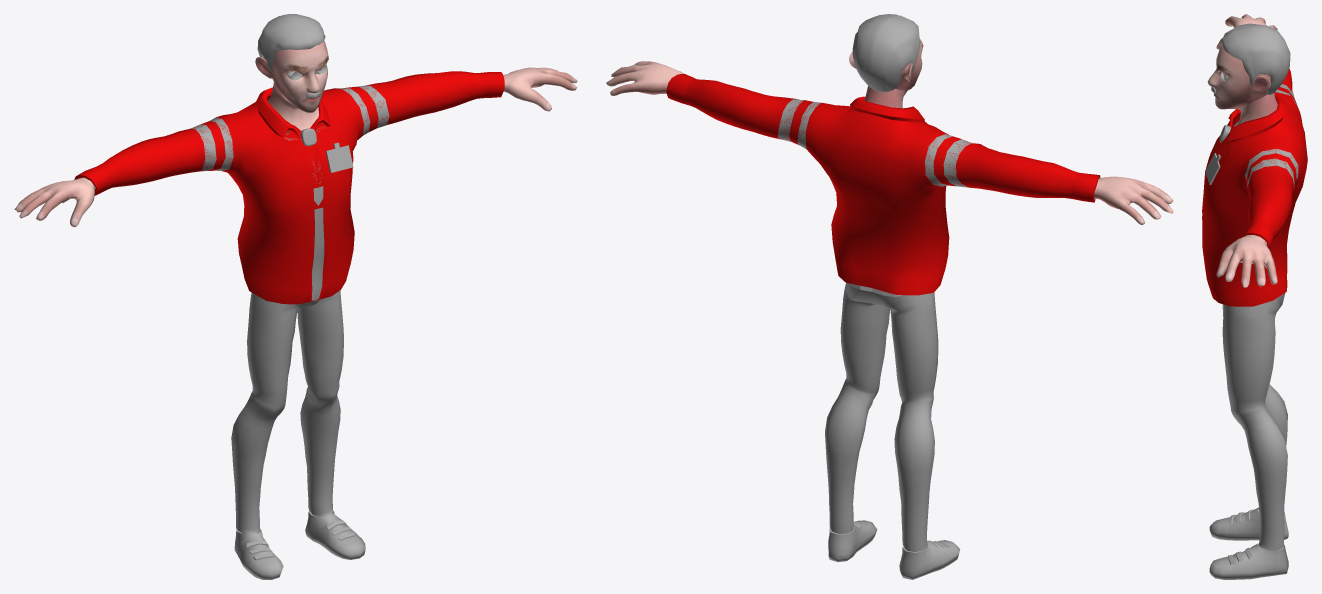
The model's file is man.fbx.
3 renders of one model, left to right at view 1: azimuth 30°, elevation 25°; view 2: azimuth 150°, elevation 25°; view 3: azimuth 270°, elevation 25°, orthographic. The views are drawn at different scales.
Visible parts, largest first — view 1: Man_hammer:Man_hammer_9, Man_hammer:Man_hammer_4, Man_1__1858_Man_1_10, Man_hammer:Man_hammer_0, office_Man_1:office_Man_1_8, Man_hammer:Man_hammer_5, Man_hammer:Man_hammer_1, Man_hammer:Man_hammer_6, office_Man_1:office_Man_1_4, Man_hammer:Man_hammer_2, Man_1__1858_Man_1_12; view 2: Man_hammer:Man_hammer_9, Man_hammer:Man_hammer_4, Man_1__1858_Man_1_10, Man_hammer:Man_hammer_0, Man_hammer:Man_hammer_2, Man_hammer:Man_hammer_5, office_Man_1:office_Man_1_8, office_Man_1:office_Man_1_4, Man_hammer:Man_hammer_6; view 3: Man_hammer:Man_hammer_9, Man_hammer:Man_hammer_4, Man_1__1858_Man_1_10, Man_hammer:Man_hammer_5, Man_hammer:Man_hammer_0, Man_hammer:Man_hammer_2, Man_hammer:Man_hammer_6, Man_hammer:Man_hammer_1, office_Man_1:office_Man_1_8, office_Man_1:office_Man_1_4, Man_hammer:Man_hammer_8, office_Man_1:office_Man_1_1 (+5 smaller).
Boxes of the visible parts, left/top/right/bottom form: Man_hammer:Man_hammer_9: left=74, top=71, right=504, bottom=301; Man_hammer:Man_hammer_4: left=238, top=290, right=343, bottom=533; Man_1__1858_Man_1_10: left=237, top=195, right=354, bottom=304; Man_hammer:Man_hammer_0: left=14, top=67, right=577, bottom=227; office_Man_1:office_Man_1_8: left=77, top=72, right=502, bottom=214; Man_hammer:Man_hammer_5: left=190, top=85, right=389, bottom=533; Man_hammer:Man_hammer_1: left=255, top=41, right=328, bottom=112; Man_hammer:Man_hammer_6: left=234, top=511, right=365, bottom=577; office_Man_1:office_Man_1_4: left=232, top=292, right=343, bottom=549; Man_hammer:Man_hammer_2: left=257, top=14, right=325, bottom=72; Man_1__1858_Man_1_12: left=312, top=207, right=324, bottom=300; Man_hammer:Man_hammer_9: left=666, top=73, right=1100, bottom=214; Man_hammer:Man_hammer_4: left=825, top=282, right=938, bottom=551; Man_1__1858_Man_1_10: left=831, top=193, right=949, bottom=295; Man_hammer:Man_hammer_0: left=606, top=61, right=1173, bottom=224; Man_hammer:Man_hammer_2: left=852, top=14, right=920, bottom=92; Man_hammer:Man_hammer_5: left=778, top=99, right=971, bottom=550; office_Man_1:office_Man_1_8: left=668, top=77, right=1097, bottom=212; office_Man_1:office_Man_1_4: left=825, top=284, right=937, bottom=575; Man_hammer:Man_hammer_6: left=828, top=520, right=960, bottom=576; Man_hammer:Man_hammer_9: left=1203, top=68, right=1307, bottom=248; Man_hammer:Man_hammer_4: left=1222, top=293, right=1287, bottom=550; Man_1__1858_Man_1_10: left=1202, top=194, right=1295, bottom=306; Man_hammer:Man_hammer_5: left=1245, top=84, right=1298, bottom=551; Man_hammer:Man_hammer_0: left=1216, top=14, right=1277, bottom=287; Man_hammer:Man_hammer_2: left=1222, top=23, right=1290, bottom=94; Man_hammer:Man_hammer_6: left=1209, top=507, right=1288, bottom=576; Man_hammer:Man_hammer_1: left=1207, top=45, right=1270, bottom=109; office_Man_1:office_Man_1_8: left=1204, top=76, right=1307, bottom=245; office_Man_1:office_Man_1_4: left=1222, top=296, right=1287, bottom=576; Man_hammer:Man_hammer_8: left=1210, top=534, right=1288, bottom=579; office_Man_1:office_Man_1_1: left=1208, top=49, right=1270, bottom=108.
Size of the model in its own units: 220 by 202 by 36.64.
